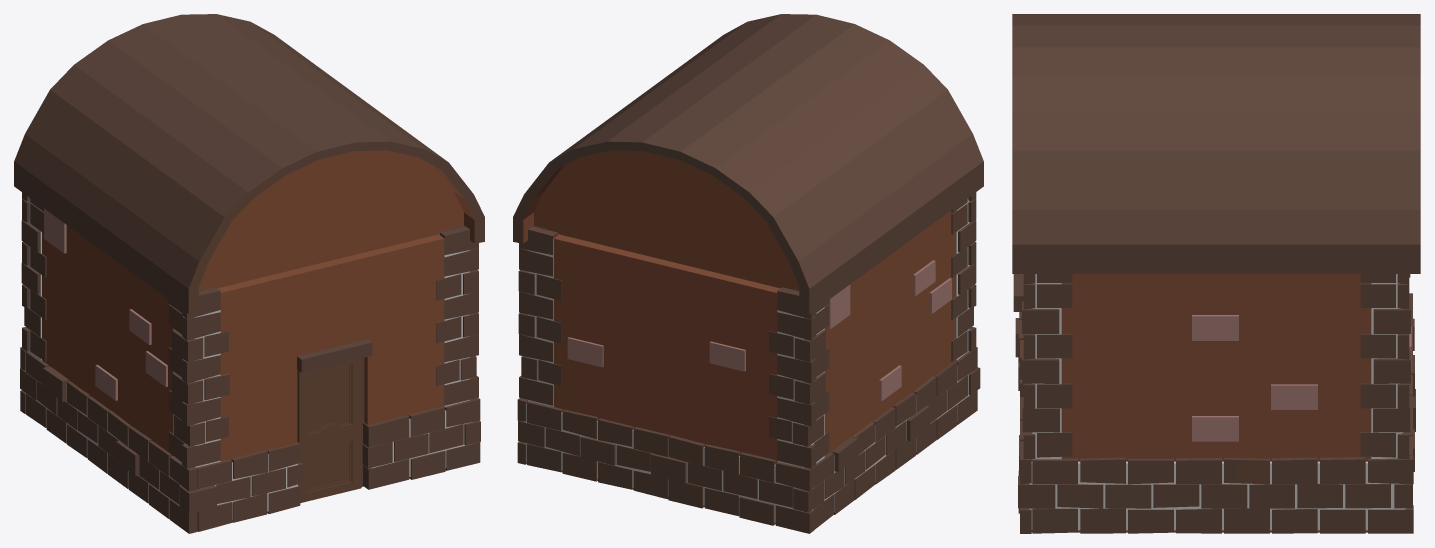
The model's file is 1Story RoundRoof.glb.
3 views of the same model, side by side, from view 1: azimuth 30°, elevation 25°; view 2: azimuth 150°, elevation 25°; view 3: azimuth 270°, elevation 25° (orthographic). The views are drawn at different scales.
Visible parts, largest first — view 1: 1Story_RoundRoof; view 2: 1Story_RoundRoof; view 3: 1Story_RoundRoof.
Part boxes in pixels (x1,y1,x2,y2): 1Story_RoundRoof: [14, 14, 484, 533]; 1Story_RoundRoof: [513, 14, 983, 533]; 1Story_RoundRoof: [1012, 14, 1420, 533].
Bounding box in the file's own units: 5.01 × 5.72 × 5.1.
Materials: 1 (1 with a texture image).
